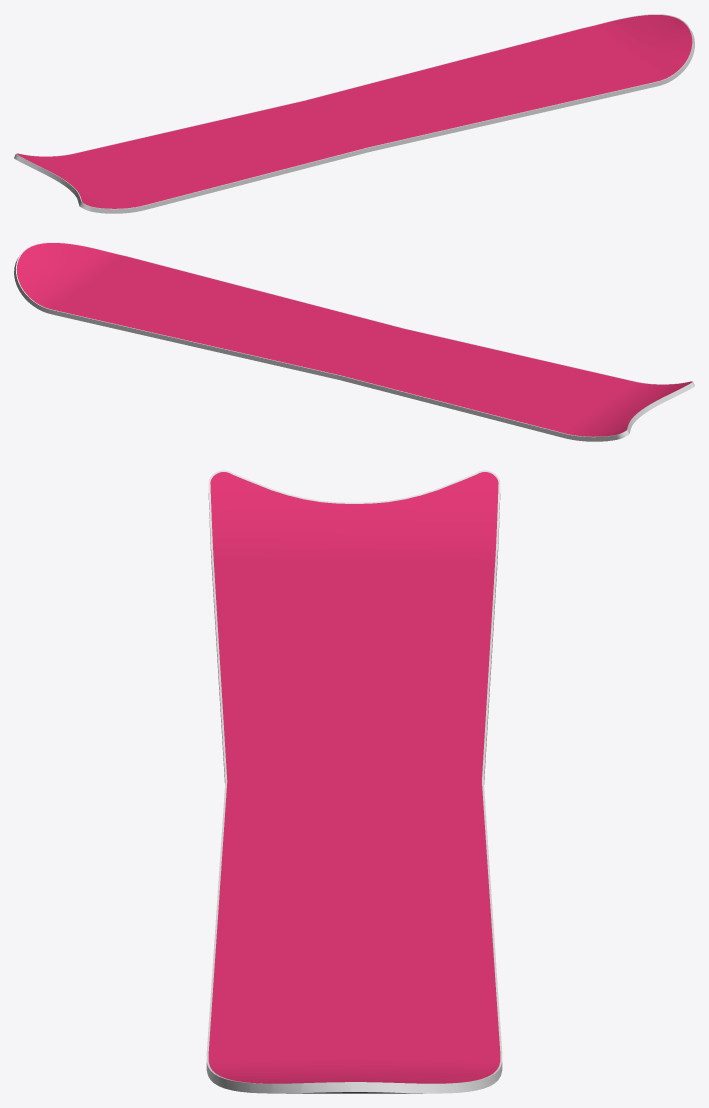
File: board_directional_zero.gltf
3 renders of one model, top to bottom at view 1: azimuth 30°, elevation 25°; view 2: azimuth 150°, elevation 25°; view 3: azimuth 270°, elevation 25°, orthographic. The views are drawn at different scales.
Parts seen in each view (by area): view 1: board-top, board-edge; view 2: board-top, board-edge; view 3: board-top, board-edge.
Boxes of the visible parts, x1,y1,x2,y2 form: board-top: (17,15,692,208); board-edge: (14,14,694,213); board-top: (16,243,691,436); board-edge: (14,242,694,441); board-top: (208,472,500,1083); board-edge: (206,470,502,1093).
Bounding box in the file's own units: 1.5 × 0.0522 × 0.3009.
